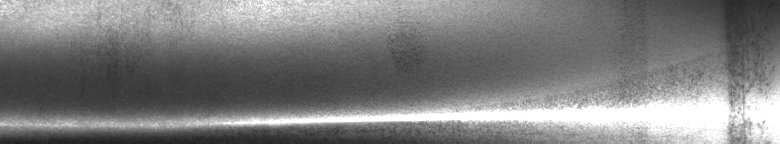ke: (4, 96, 644, 136)
